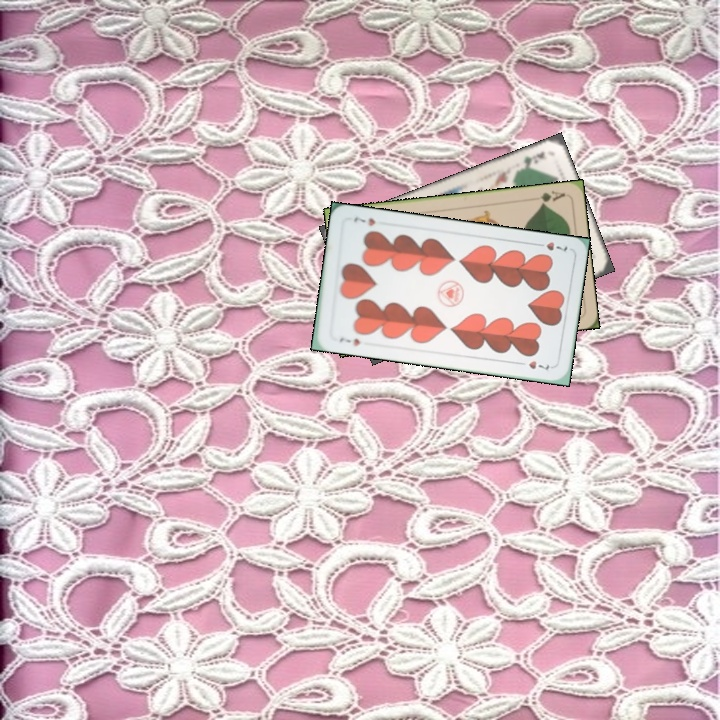GA: (536, 186, 567, 207)
GK: (515, 147, 548, 173)
H7: (531, 238, 570, 254), (335, 333, 363, 348)
